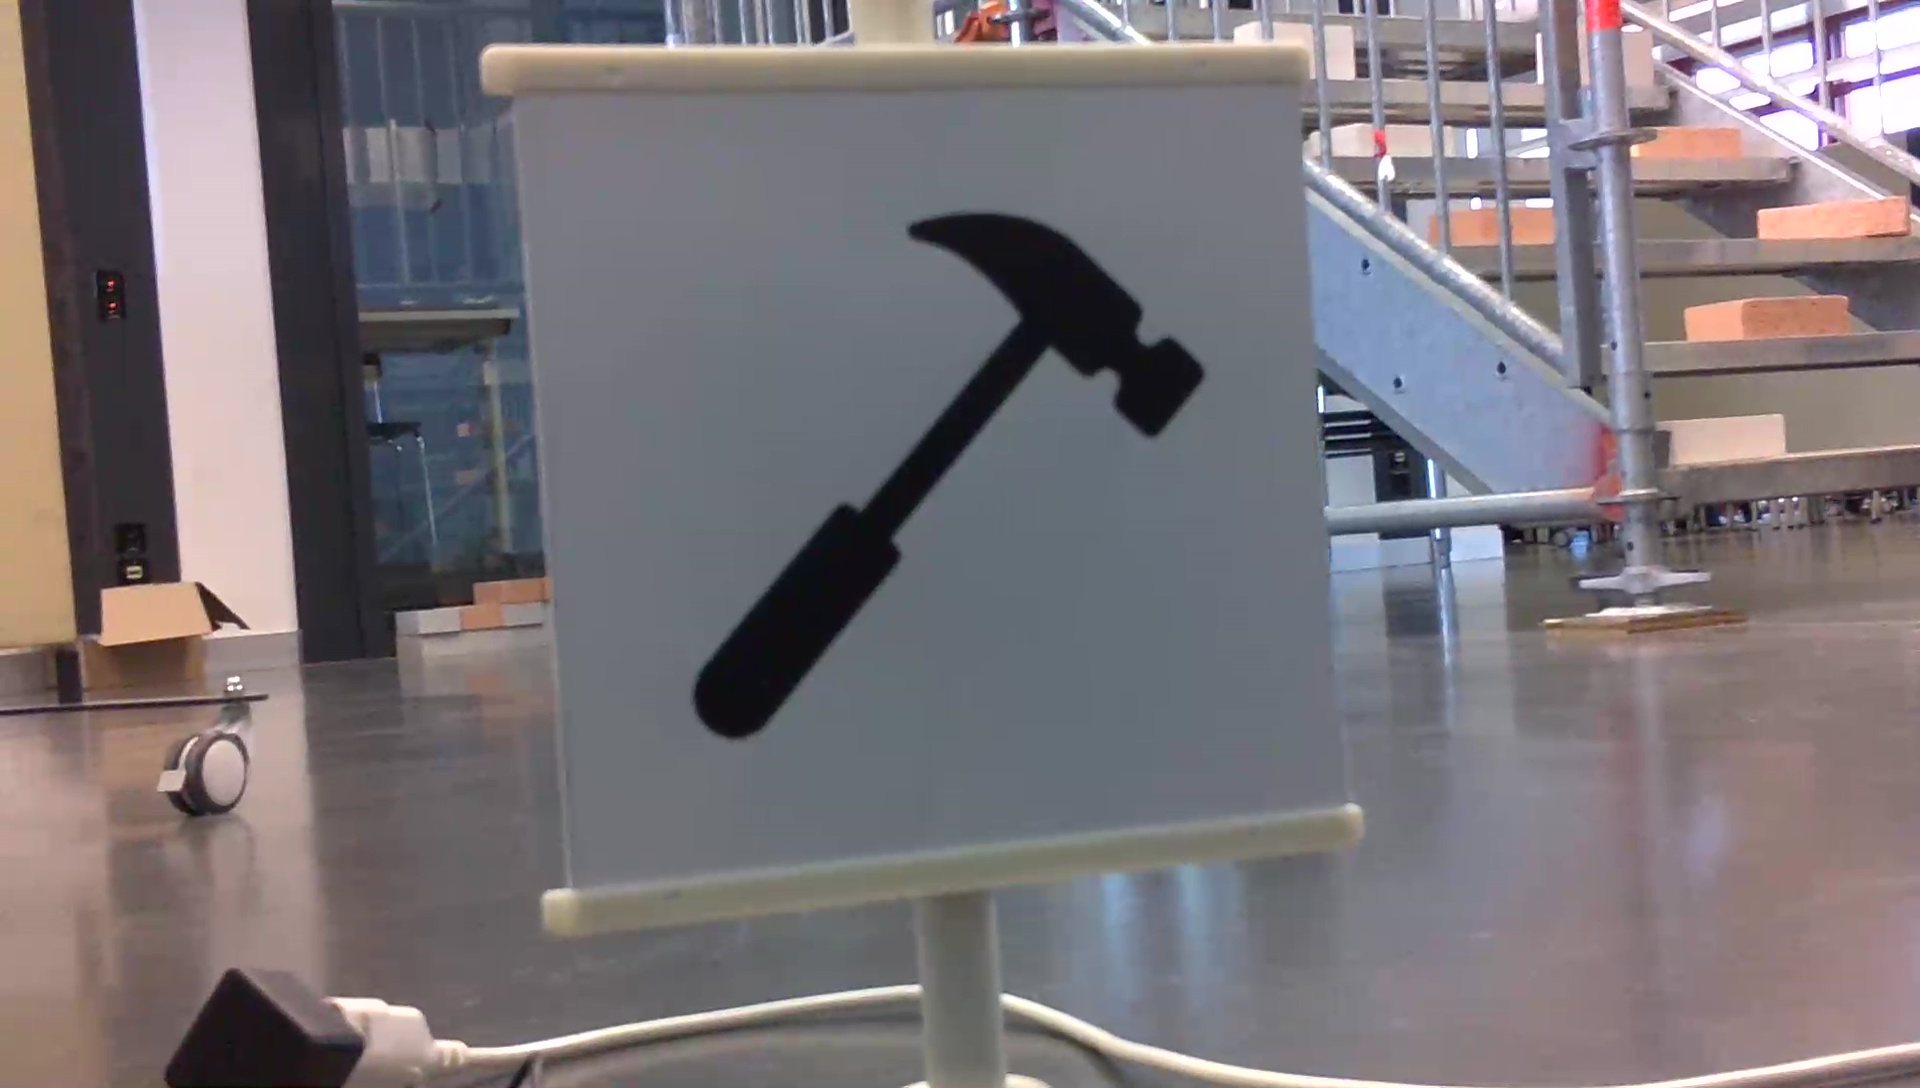brick: (1685, 295, 1845, 334), (1758, 200, 1908, 235), (1672, 418, 1783, 462), (1633, 123, 1739, 161), (1622, 34, 1652, 88)
hammer: (679, 203, 1218, 750)
